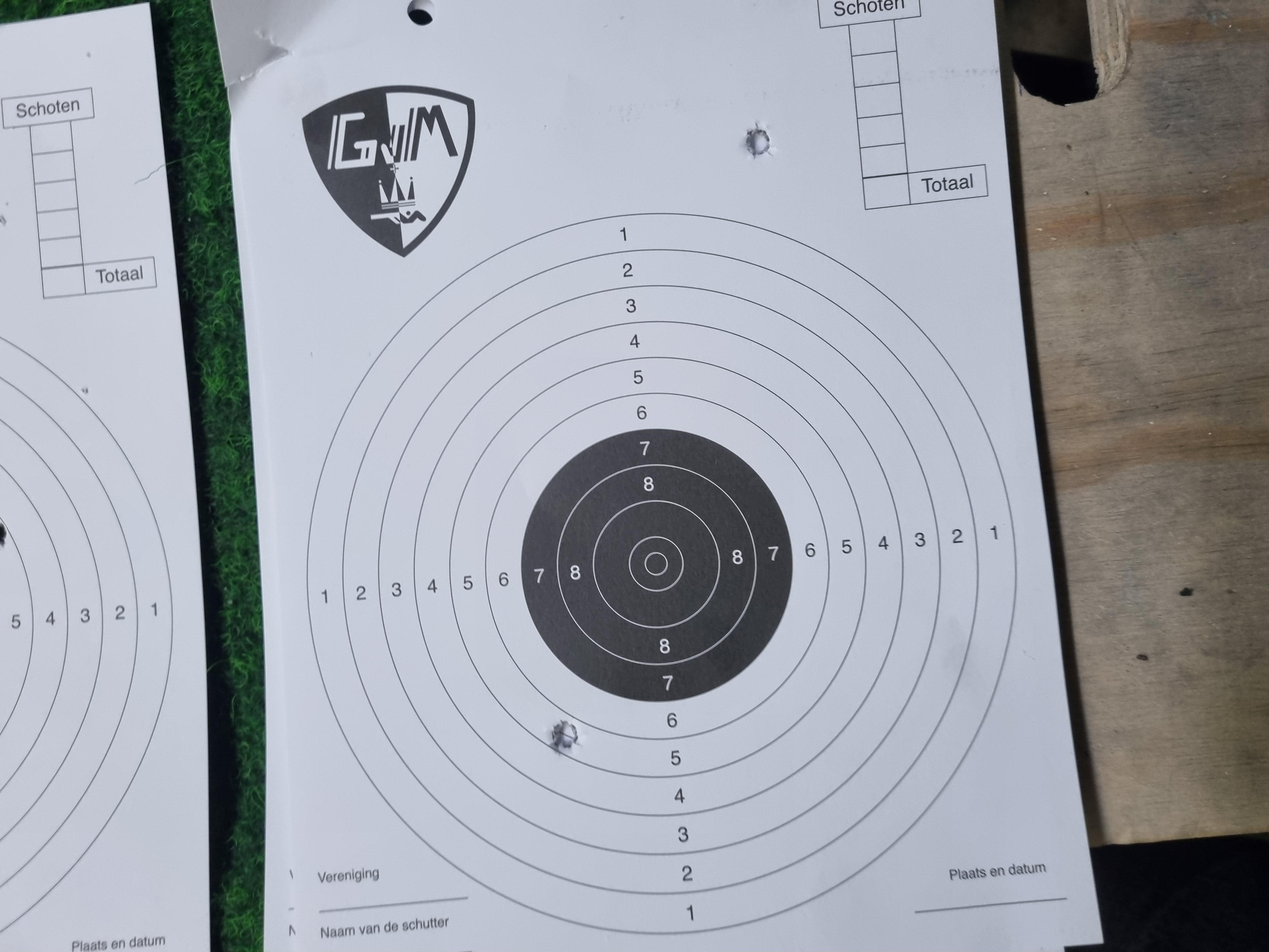hole: (1058, 558, 1106, 579), (263, 414, 309, 435)
